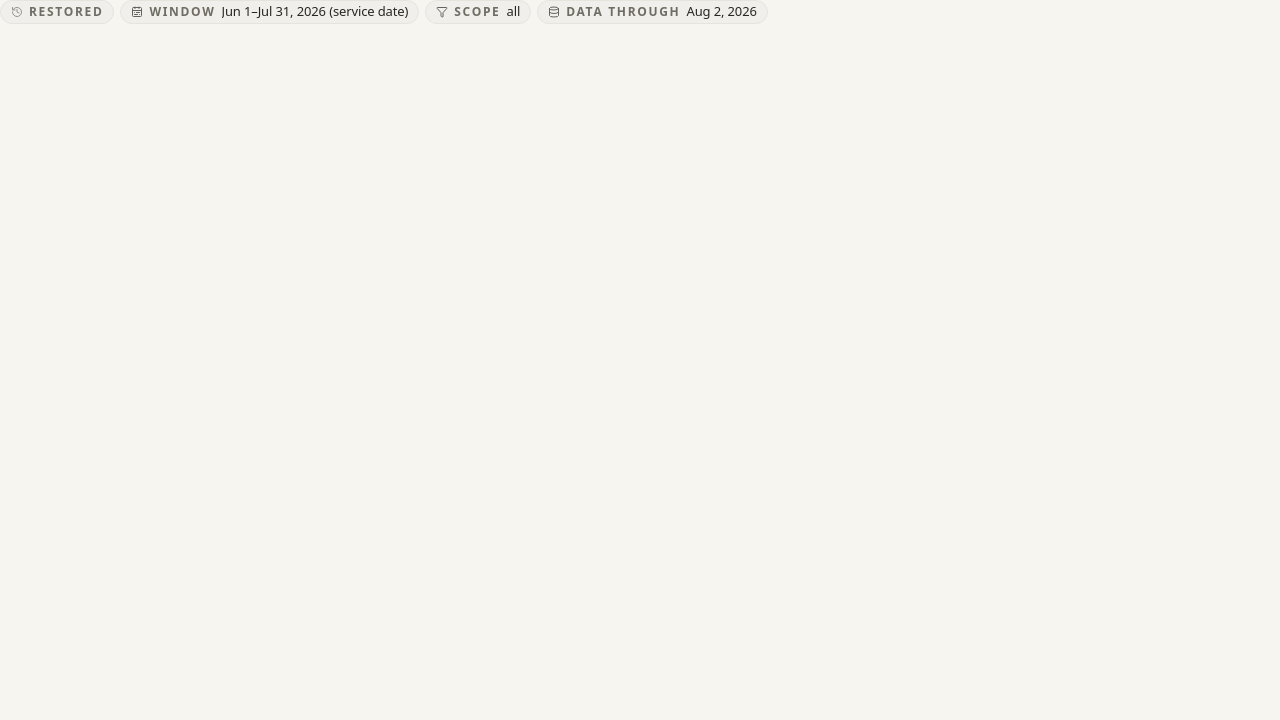
Test case: ContextHeader — a restored turn › prefers the server's own account of the restore over the static copy
Click the button "Restored".
click(57, 12)  # box [0, 0, 114, 24]
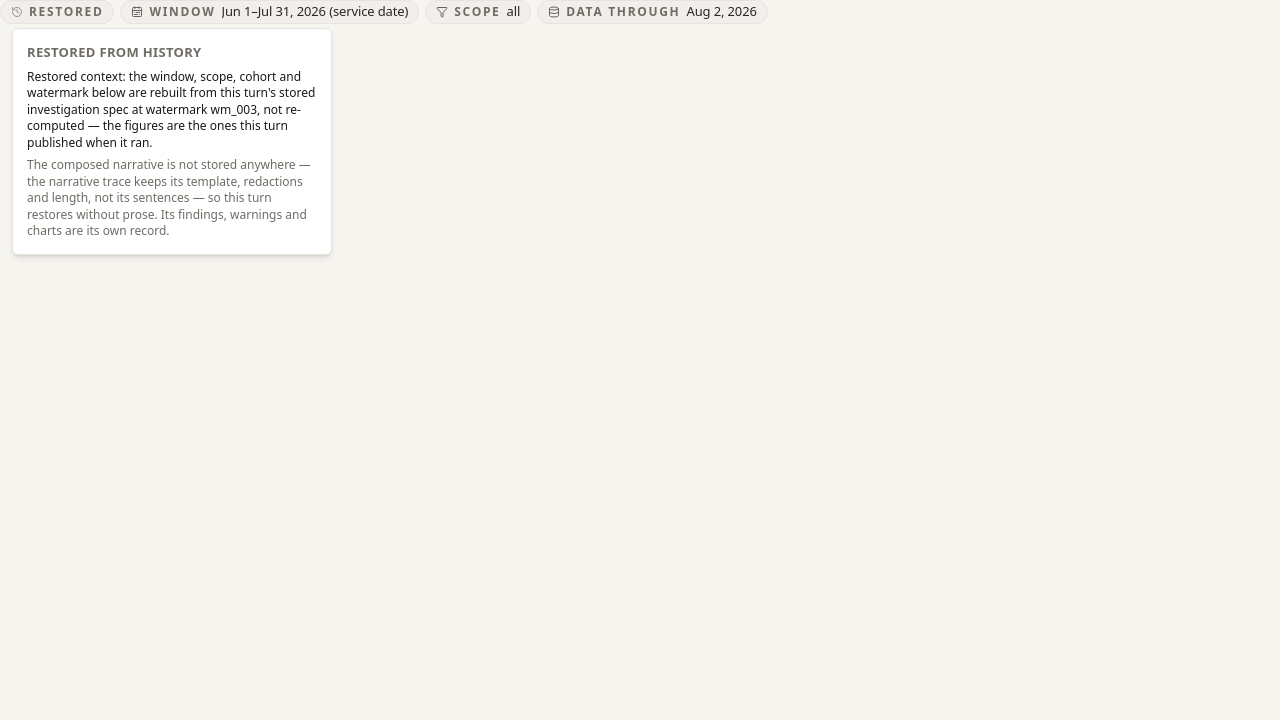
Expected: the text "not re-computed" is shown, [27, 68, 315, 150]
Expected: the text "keeps its template, redactions and length, not its sentences" is shown, [27, 156, 311, 239]
